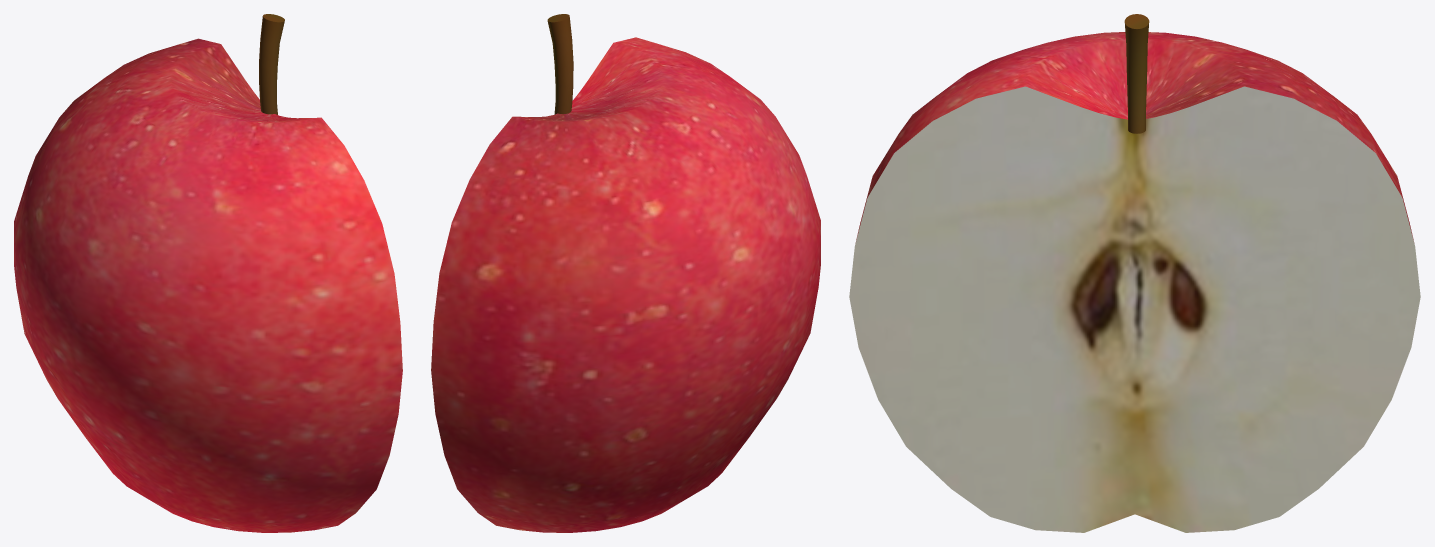
File: Apple2.fbx
The picture shows the model from 3 angles, left to right: view 1: azimuth 30°, elevation 25°; view 2: azimuth 150°, elevation 25°; view 3: azimuth 270°, elevation 25°; orthographic projection. The views are drawn at different scales.
Visible parts, largest first — view 1: Apple2; view 2: Apple2; view 3: Apple2.
Boxes of the visible parts, bbox=[...] form: Apple2: bbox=[14, 14, 402, 532]; Apple2: bbox=[431, 14, 820, 532]; Apple2: bbox=[849, 14, 1420, 532].
Bounding box in the file's own units: 1.56 × 2.99 × 3.
1 material, 1 textured.
